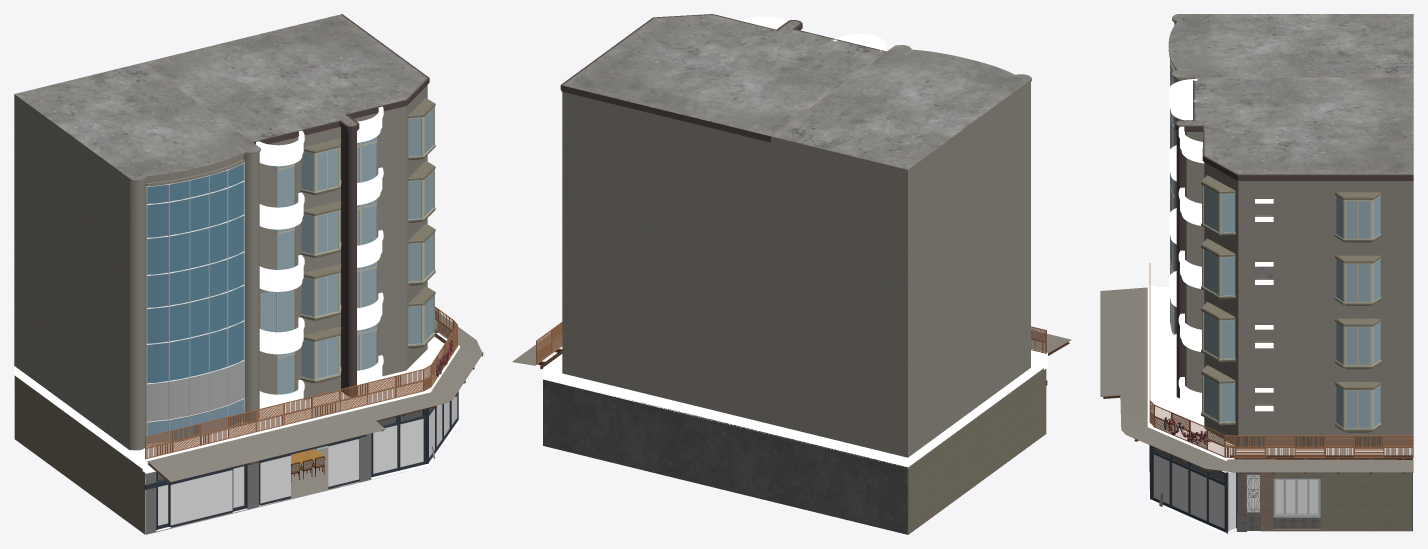
File: anping-shrimp-roll.glb
The picture shows the model from 3 angles, left to right: view 1: azimuth 30°, elevation 25°; view 2: azimuth 150°, elevation 25°; view 3: azimuth 270°, elevation 25°; orthographic projection. The views are drawn at different scales.
Visible parts, largest first — view 1: Root, Cube.100; view 2: Root; view 3: Root.
Part boxes in pixels (x1,y1,x2,y2): Root: (14,14,483,534); Cube.100: (291,449,325,482); Root: (512,14,1071,534); Root: (1100,14,1413,534).
Size of the model in its own units: 18.18 by 16.04 by 13.1.
16 materials, 13 textured.
